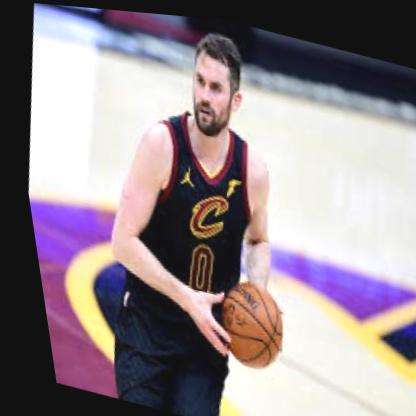basketball: (199, 271, 286, 373)
